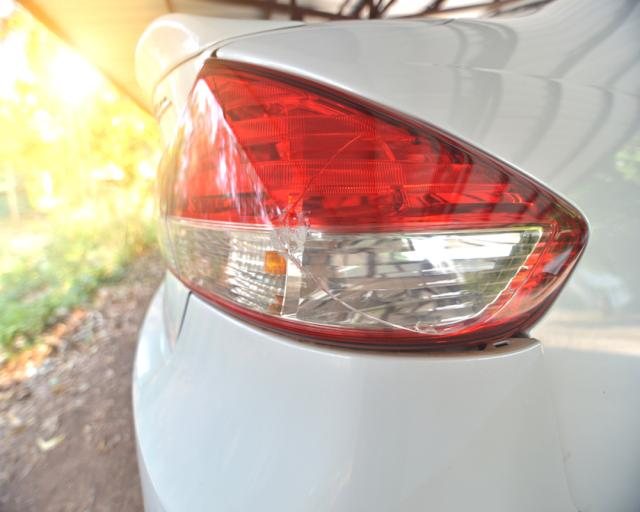lamp broken: (156, 58, 590, 350)
